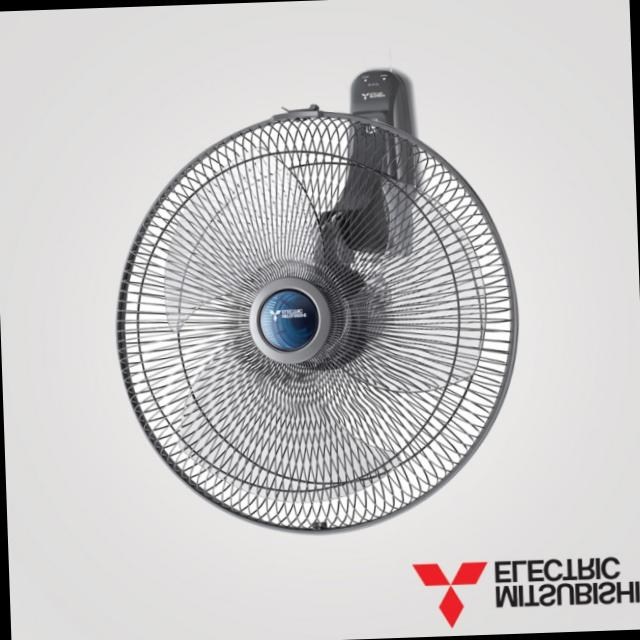fan: (98, 56, 557, 548)
